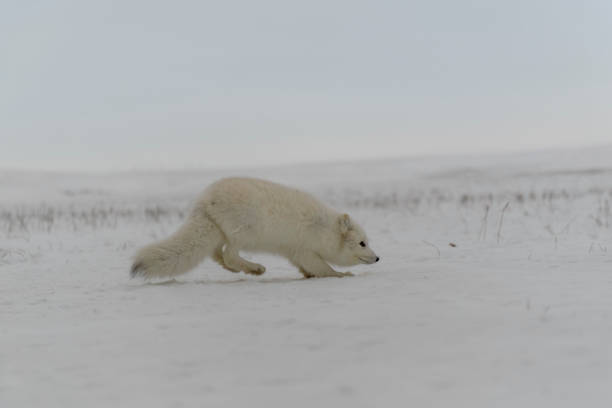arcticfox: (330, 220, 384, 275)
